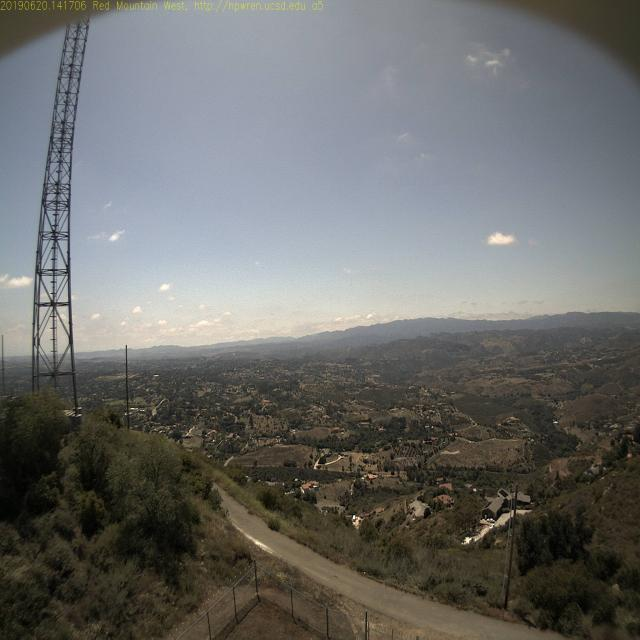smoke: (288, 337, 312, 359)
